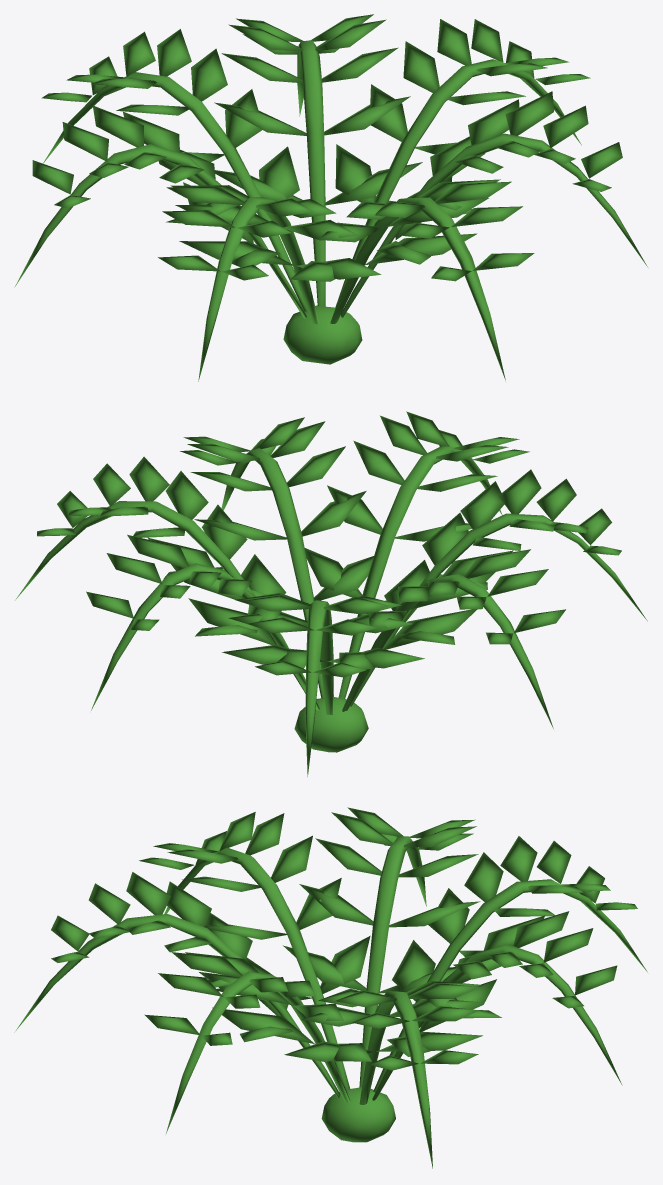
Rendered from org_fern.glb.
3 renders of one model, top to bottom at view 1: azimuth 30°, elevation 25°; view 2: azimuth 150°, elevation 25°; view 3: azimuth 270°, elevation 25°, orthographic. The views are drawn at different scales.
Visible parts, largest first — view 1: Foliage; view 2: Foliage; view 3: Foliage.
Boxes of the visible parts, left/top/right/bottom form: Foliage: left=14, top=14, right=647, bottom=381; Foliage: left=15, top=411, right=647, bottom=776; Foliage: left=14, top=807, right=647, bottom=1168.
Size of the model in its own units: 1.44 by 0.6 by 1.47.
